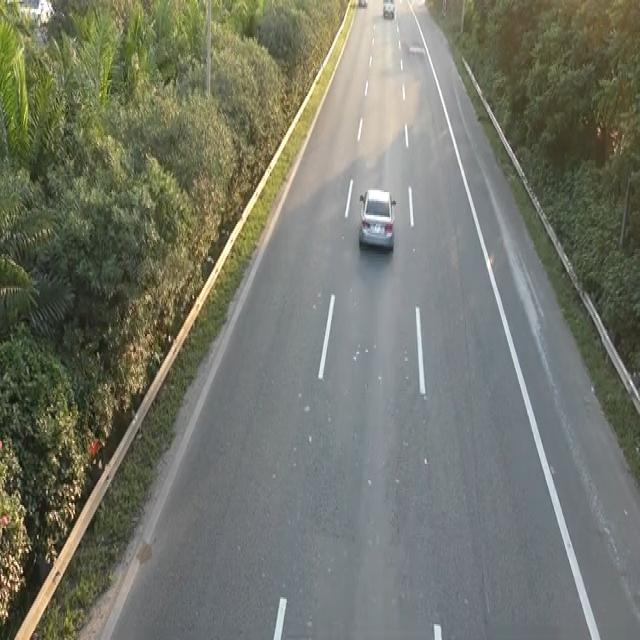bus: (356, 185, 397, 252)
car: (382, 0, 395, 20)
